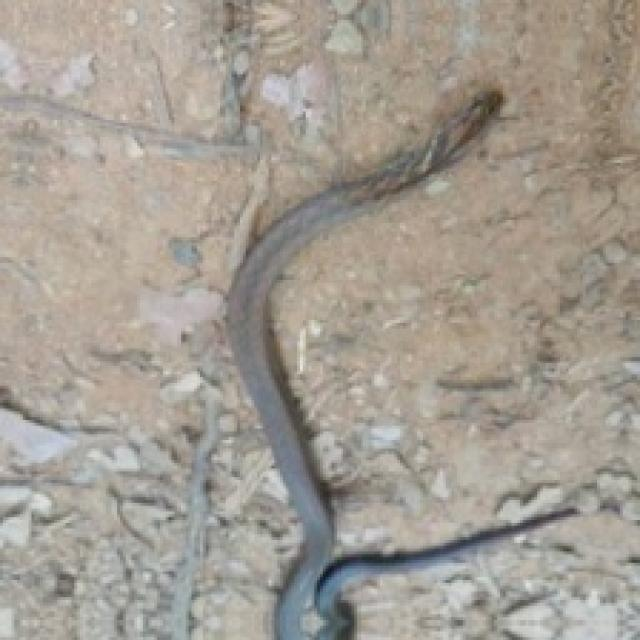reinhardts lined snake: (226, 89, 571, 637)
